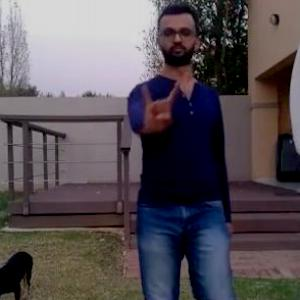takeoff-hand: (133, 70, 182, 134)
